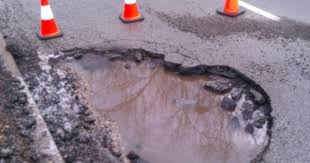pothole: (1, 44, 281, 163)
